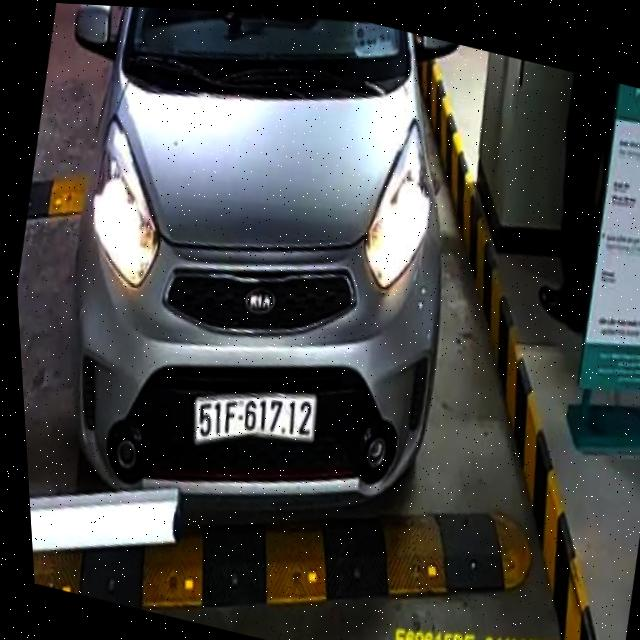car: (0, 0, 516, 575)
plate: (182, 368, 327, 474)
